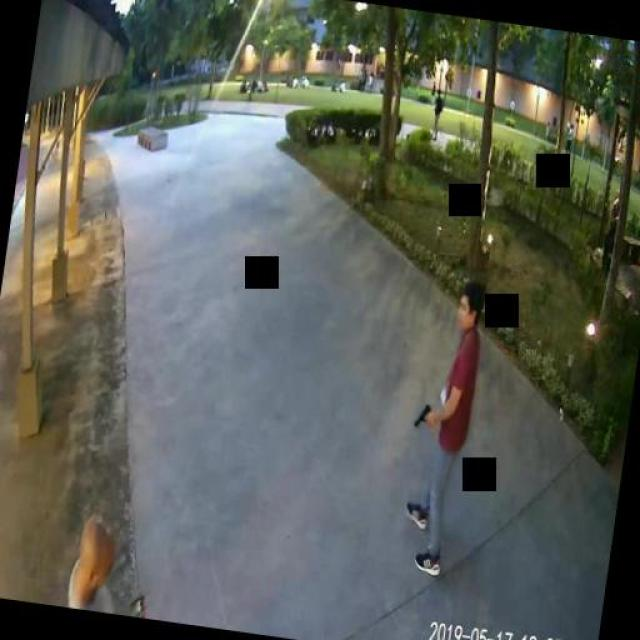gun: (412, 399, 432, 429)
